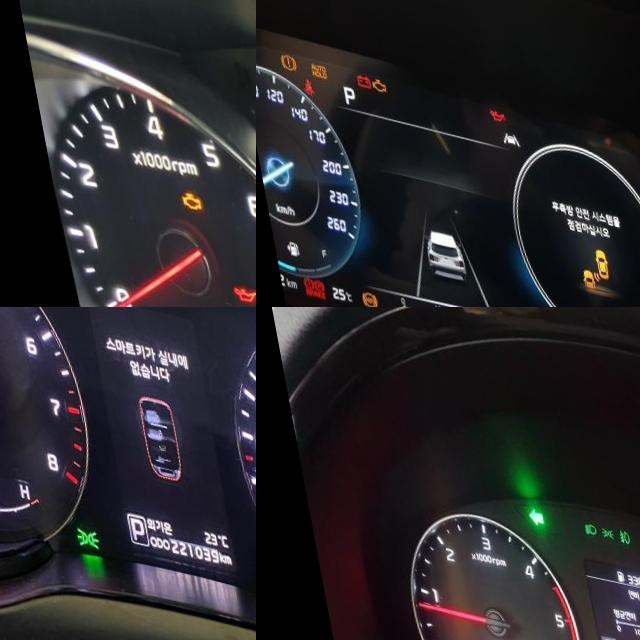FrontFogLight: (607, 513, 621, 529)
LaneCenteringOff: (491, 119, 510, 135)
Low beam: (573, 508, 587, 523)
SideLamp: (58, 515, 84, 539), (590, 511, 604, 526)
